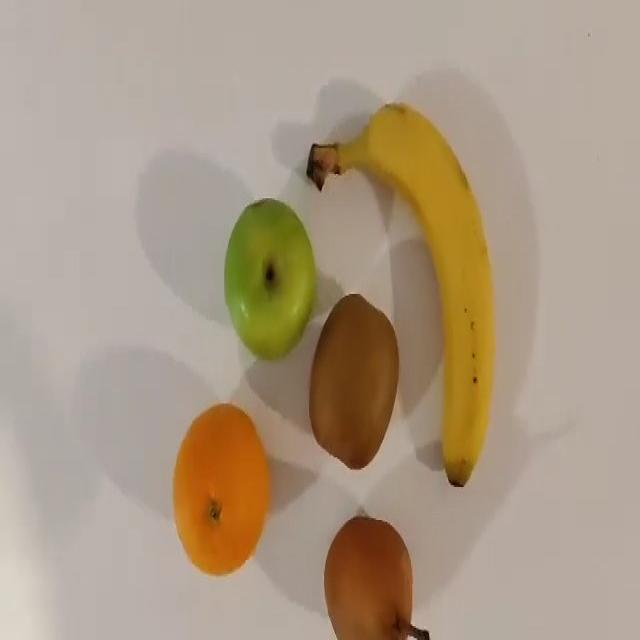Apple: (223, 197, 317, 360)
Banana: (305, 100, 495, 487)
Orange: (171, 402, 271, 576)
